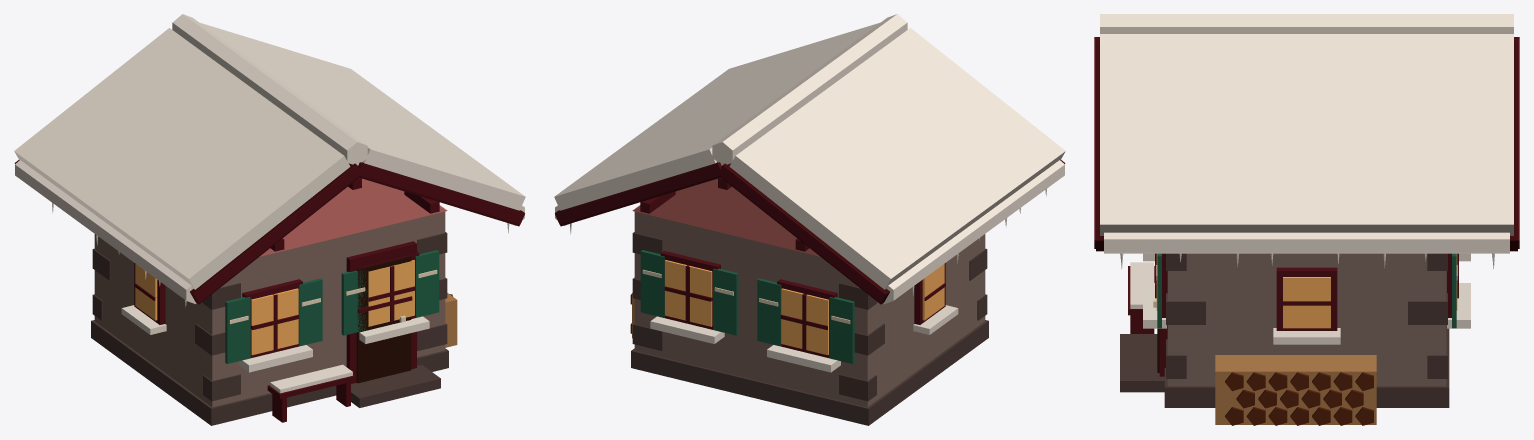
The model's file is rs_chalet_small.glb.
The picture shows the model from 3 angles, left to right: view 1: azimuth 30°, elevation 25°; view 2: azimuth 150°, elevation 25°; view 3: azimuth 270°, elevation 25°; orthographic projection. The views are drawn at different scales.
Visible parts, largest first — view 1: roof, body, door; view 2: roof, body; view 3: roof, body, door.
Part boxes in pixels (box(x1,y1,x2,y2)): roof: box(14, 14, 525, 307); body: box(91, 211, 457, 425); door: box(346, 241, 440, 407); roof: box(554, 14, 1065, 304); body: box(630, 211, 988, 425); roof: box(1094, 14, 1519, 269); body: box(1128, 253, 1470, 425); door: box(1120, 271, 1167, 392).
Bounding box in the file's own units: 5.81 × 4.51 × 5.34.
